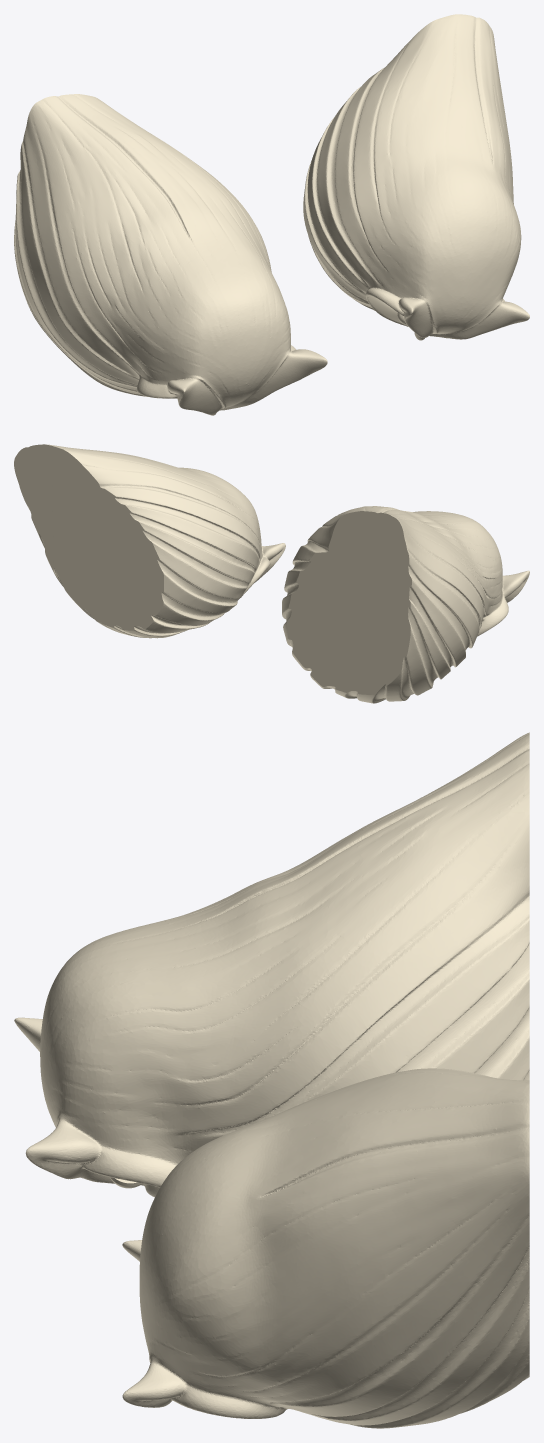
The model's file is buhos-un-color.glb.
3 views of the same model, one above another, from view 1: azimuth 30°, elevation 25°; view 2: azimuth 150°, elevation 25°; view 3: azimuth 270°, elevation 25° (orthographic). The views are drawn at different scales.
Size of the model in its own units: 214 by 108 by 115.
